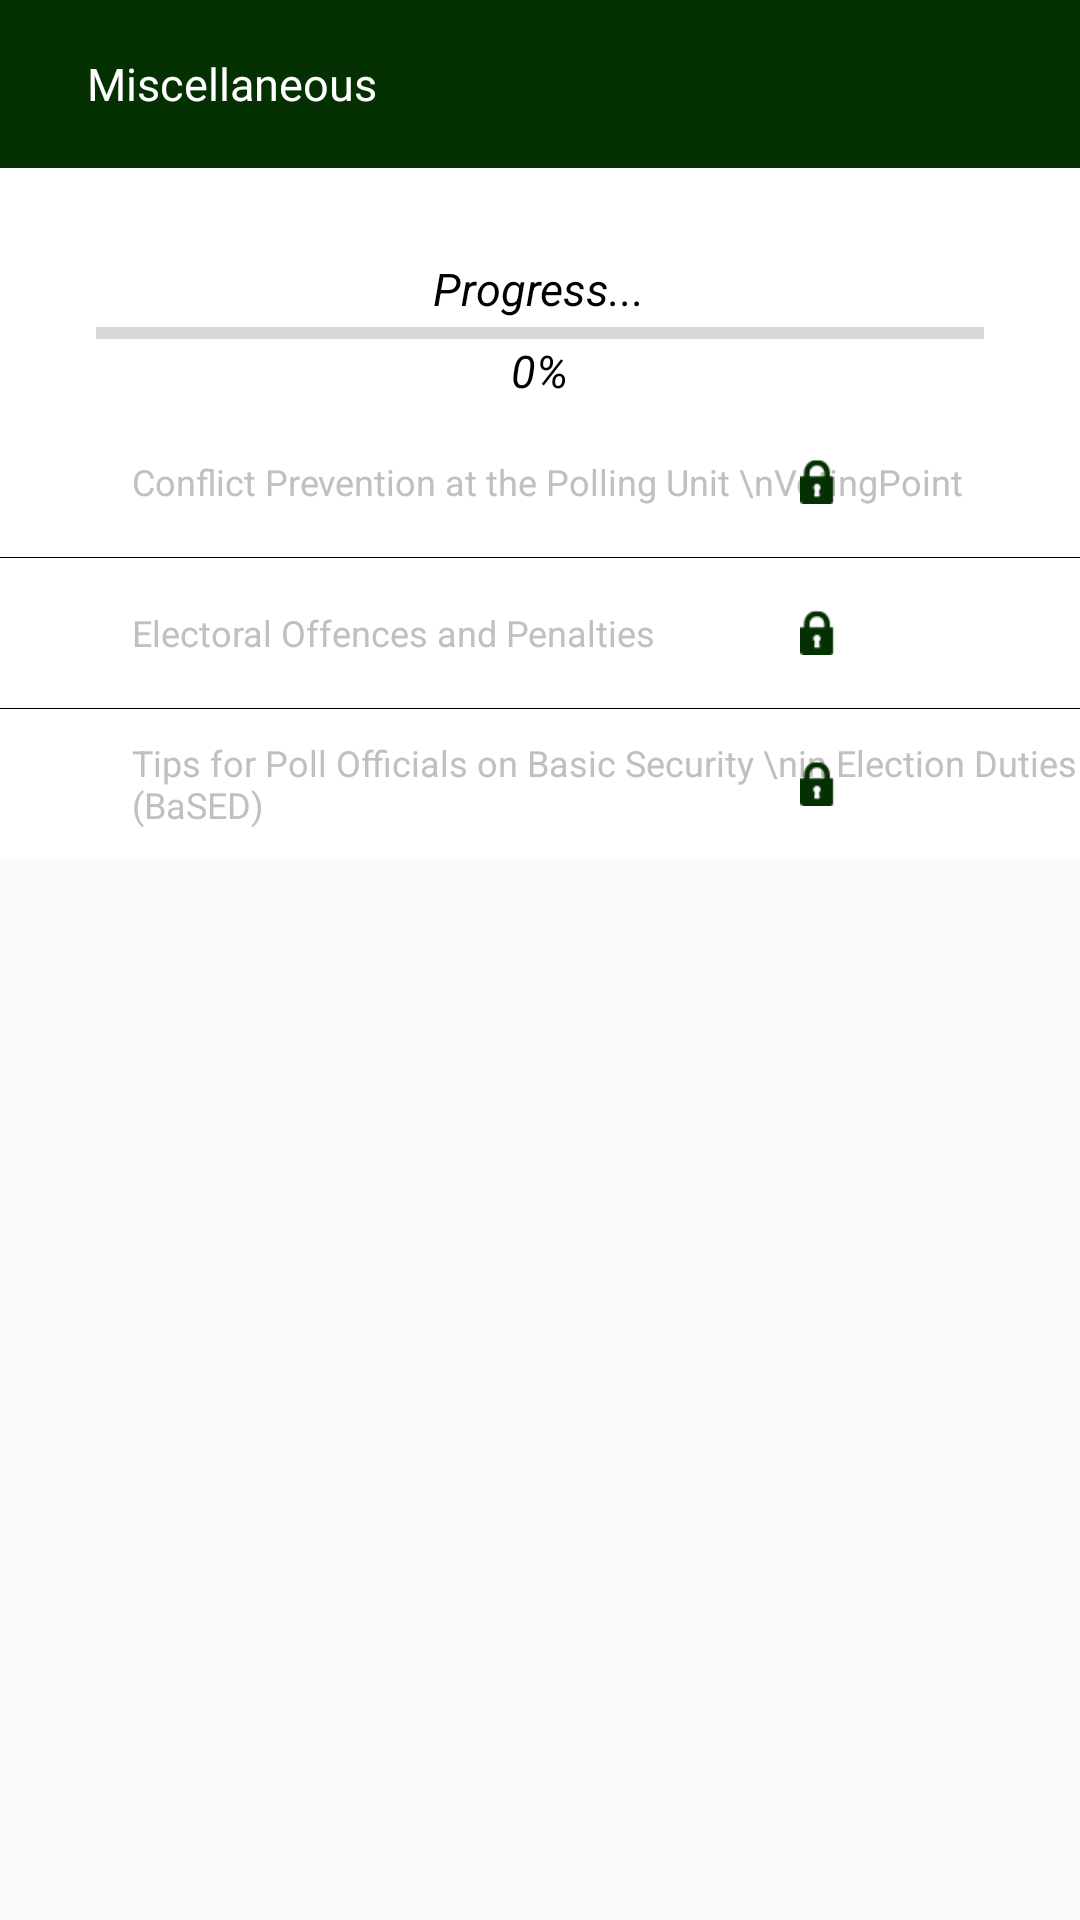

Icons on this 1080px×1920px Android screen, each with its box as box=[x1, y1, x2, y2]:
lock: box=[797, 460, 835, 504], box=[800, 611, 834, 655], box=[800, 761, 834, 806]
